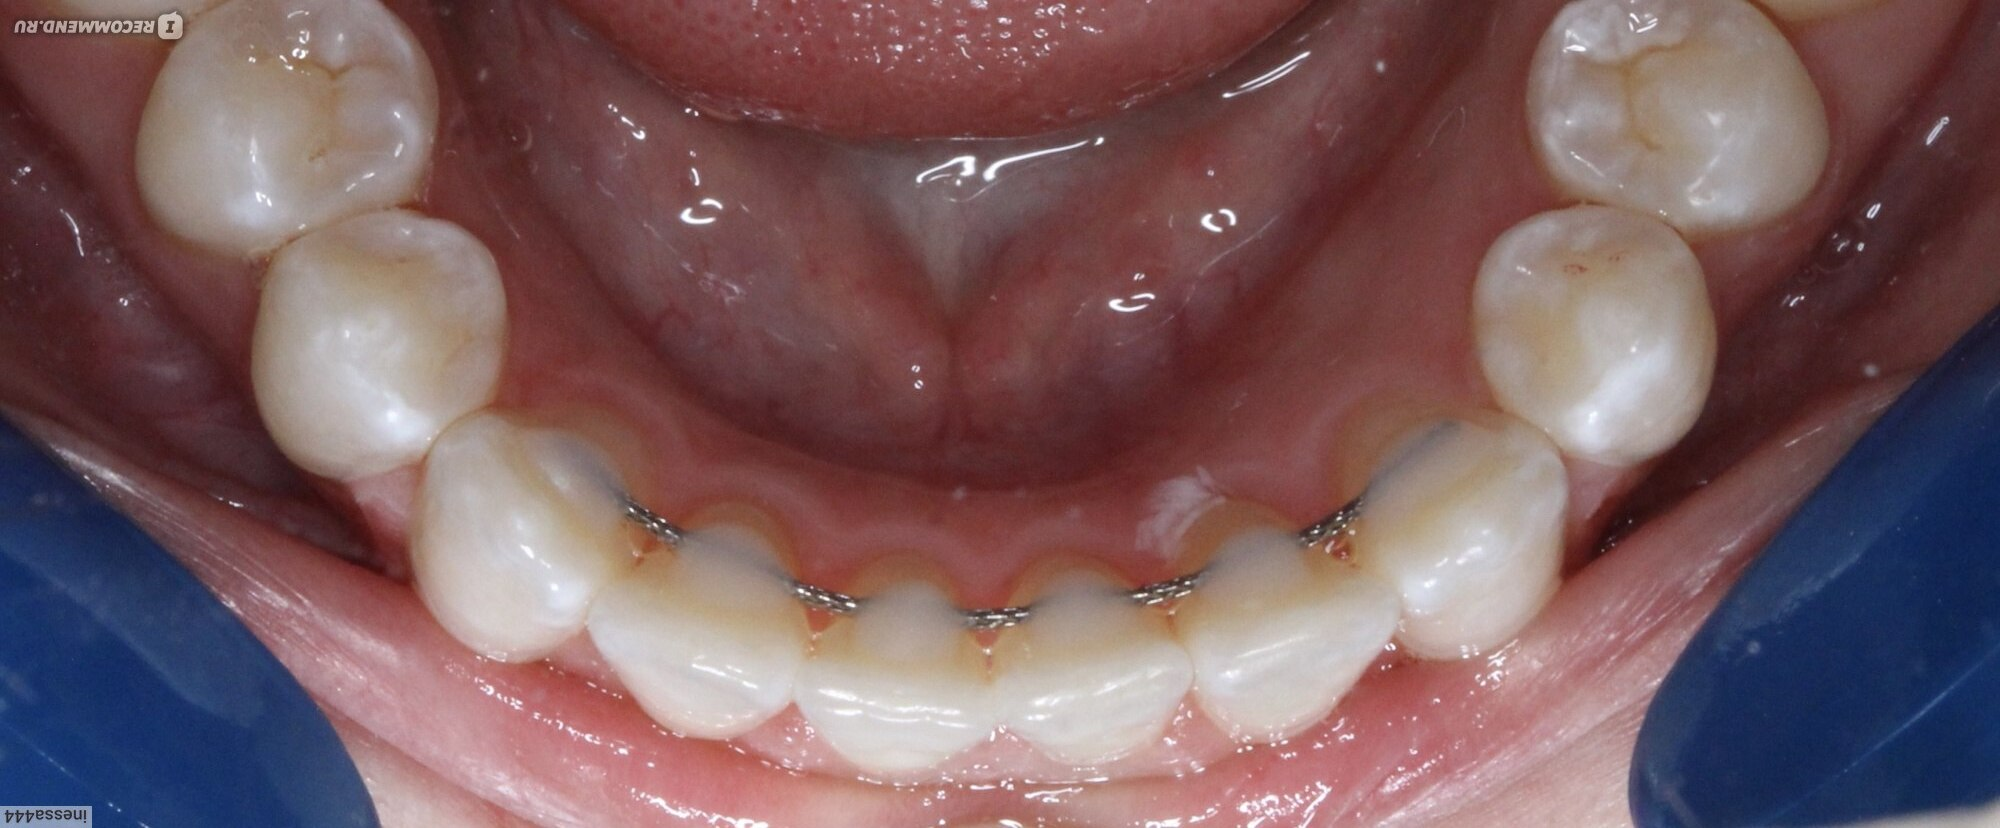LL1BC_decay: (1466, 203, 1719, 467)
LL2BC_healthy: (1474, 1, 1833, 230)
LLCI_decay: (987, 559, 1194, 774)
LLC_decay: (1342, 404, 1569, 663)
LLLI_decay: (1168, 494, 1392, 753)
LR1BC_healthy: (247, 203, 520, 481)
LR2BC_healthy: (130, 1, 450, 262)
LRCI_decay: (791, 563, 996, 773)
LRC_decay: (412, 418, 640, 663)
LRLI_decay: (591, 508, 812, 744)
